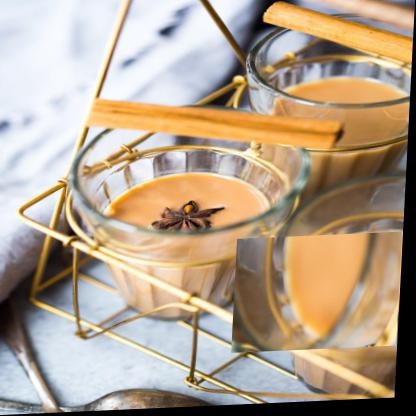milk_based_beverage: (83, 138, 308, 324), (254, 16, 414, 196), (259, 210, 406, 381)
